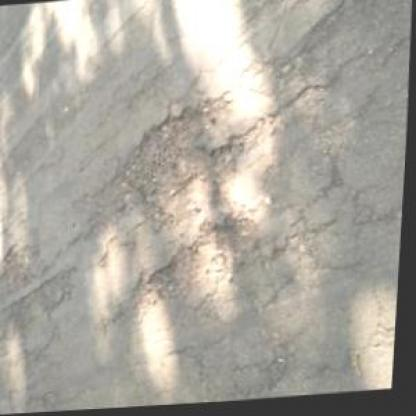pothole: (120, 89, 250, 229), (146, 212, 260, 302), (0, 240, 44, 290)
